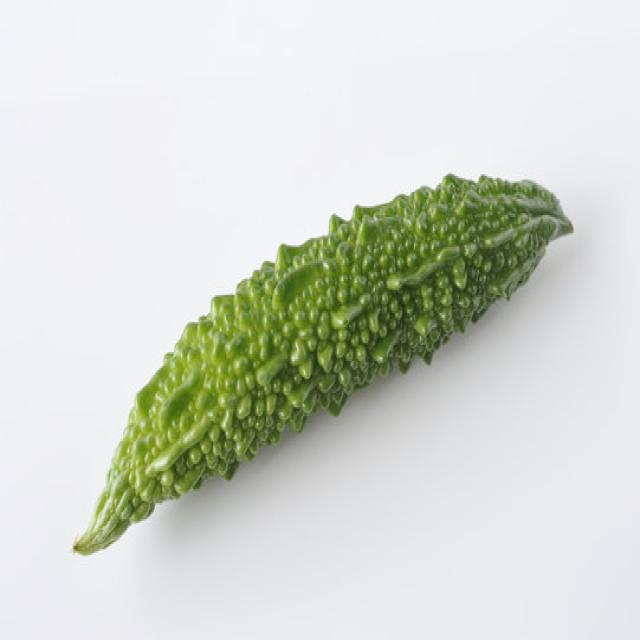Bitter_Gourd: (71, 169, 574, 556)
